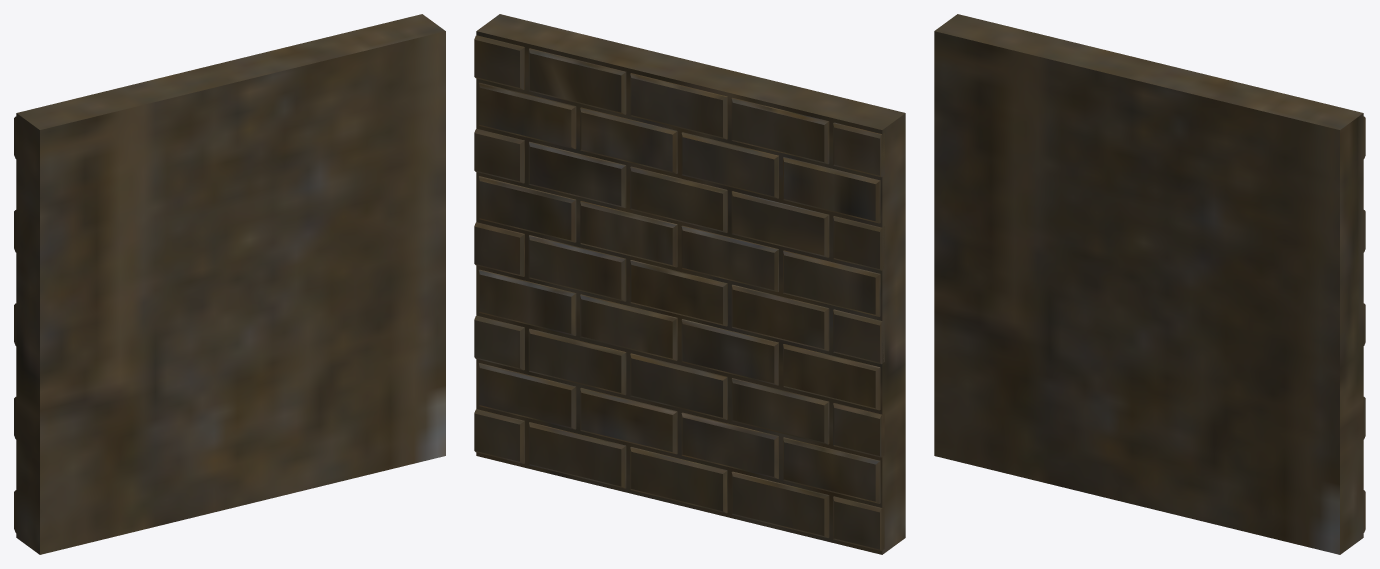
Rendered from Alchemy Assets Browser.fbx_BrickWall.fbx.
The picture shows the model from 3 angles, left to right: view 1: azimuth 30°, elevation 25°; view 2: azimuth 150°, elevation 25°; view 3: azimuth 330°, elevation 25°; orthographic projection.
Visible parts, largest first — view 1: BrickWall; view 2: BrickWall; view 3: BrickWall.
Part boxes in pixels (box(x1,y1,x2,y2)): BrickWall: box(14, 14, 445, 554); BrickWall: box(474, 14, 905, 554); BrickWall: box(934, 14, 1365, 554).
Bounding box in the file's own units: 200 × 200 × 22.
